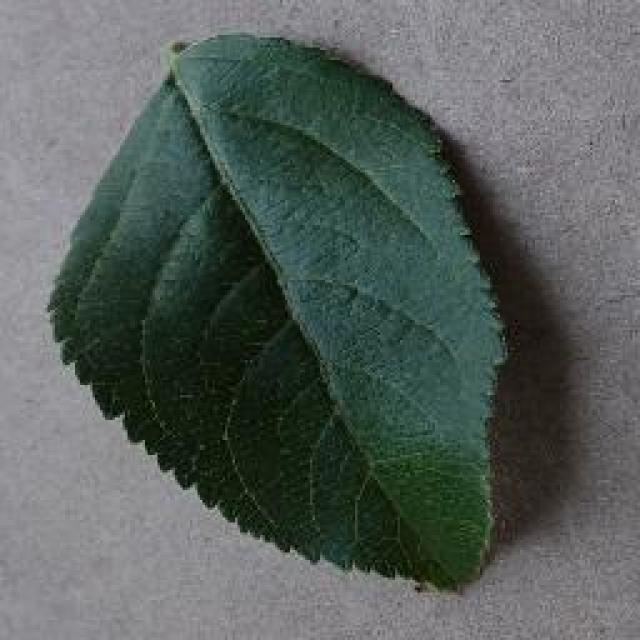apple healthy: (45, 28, 515, 592)
